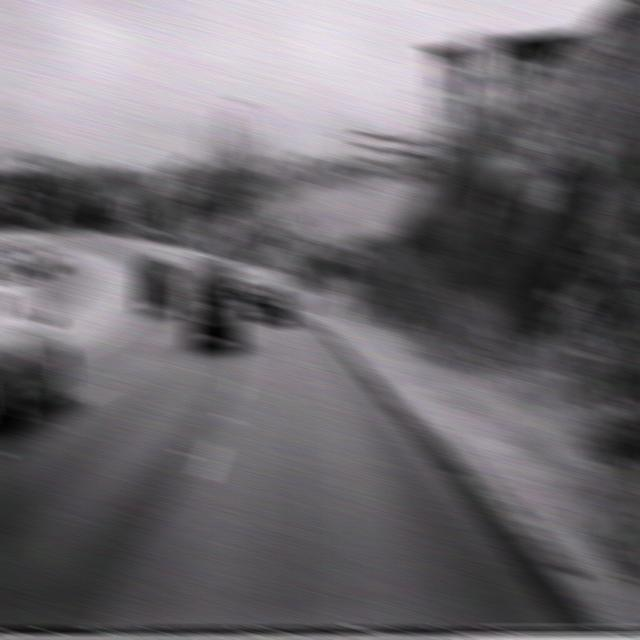pedestrianCrossing: (264, 195, 290, 230)
